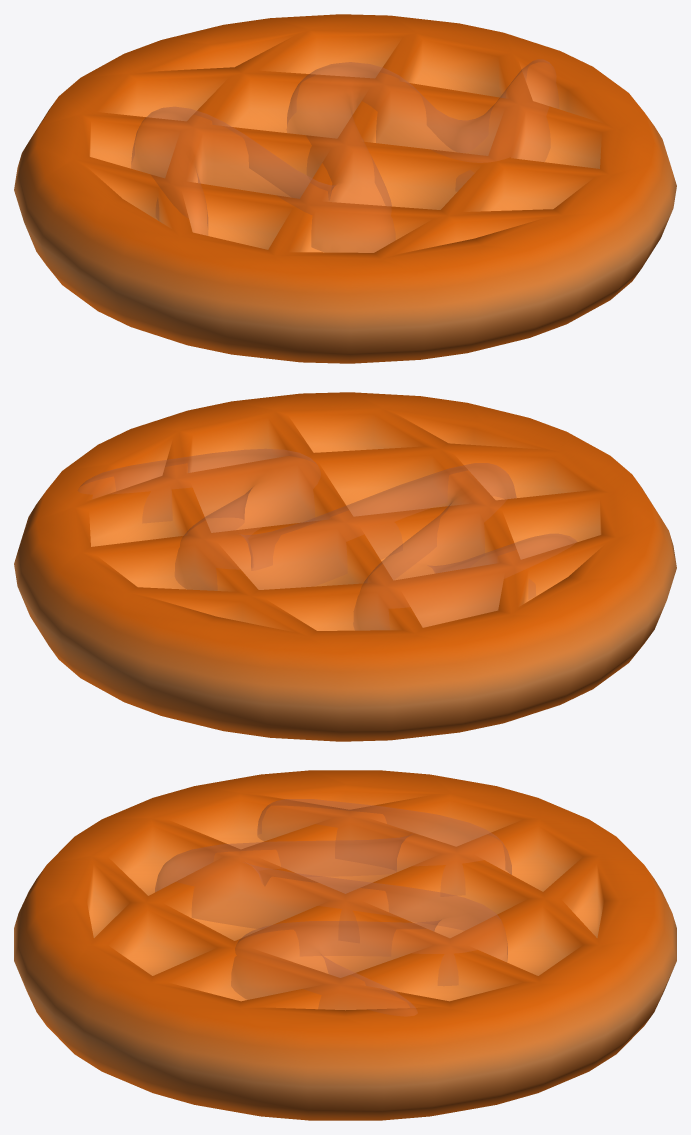
The model's file is waffle.glb.
The picture shows the model from 3 angles, top to bottom: view 1: azimuth 30°, elevation 25°; view 2: azimuth 150°, elevation 25°; view 3: azimuth 270°, elevation 25°; orthographic projection.
Parts seen in each view (by area): view 1: Circle; view 2: Circle; view 3: Circle.
Part boxes in pixels (<box>): Circle: <box>14,14,676,363</box>; Circle: <box>14,392,676,741</box>; Circle: <box>14,770,676,1120</box>.
Size of the model in its own units: 0.3617 by 0.0637 by 0.3617.
2 materials, 1 textured.
